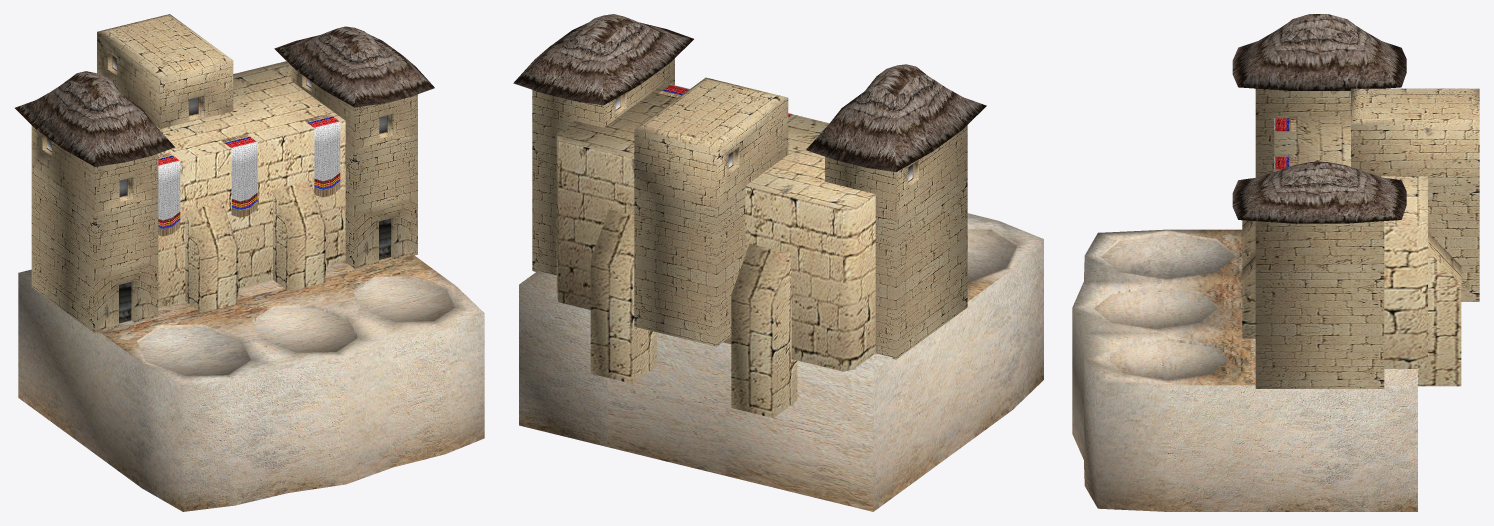
File: wonder_hopi.dae
The picture shows the model from 3 angles, left to right: view 1: azimuth 30°, elevation 25°; view 2: azimuth 150°, elevation 25°; view 3: azimuth 270°, elevation 25°; orthographic projection. The views are drawn at different scales.
Visible parts, largest first — view 1: Temple_001.001; view 2: Temple_001.001; view 3: Temple_001.001.
Part boxes in pixels (x1=…): Temple_001.001: x1=15, y1=14, x2=484, y2=511; Temple_001.001: x1=513, y1=14, x2=1043, y2=511; Temple_001.001: x1=1072, y1=14, x2=1479, y2=511.
Size of the model in its own units: 53.59 by 52.8 by 50.66.
